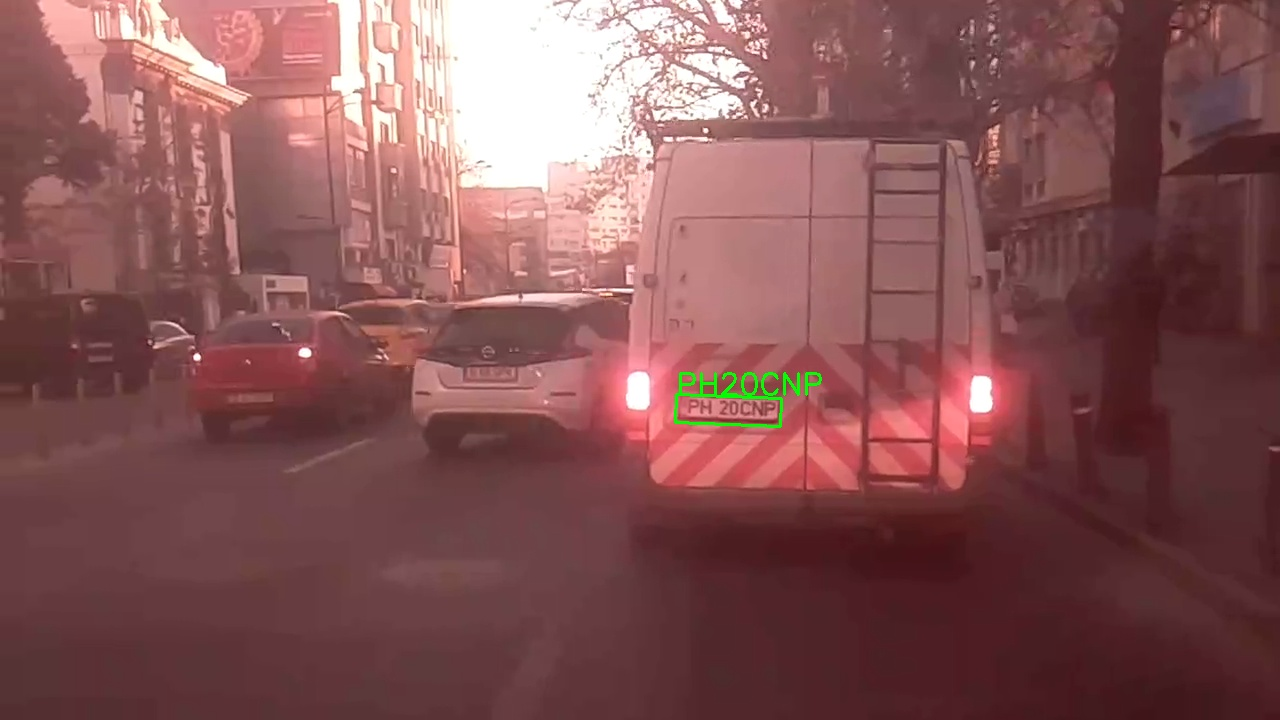license-plate: (675, 394, 783, 428)
